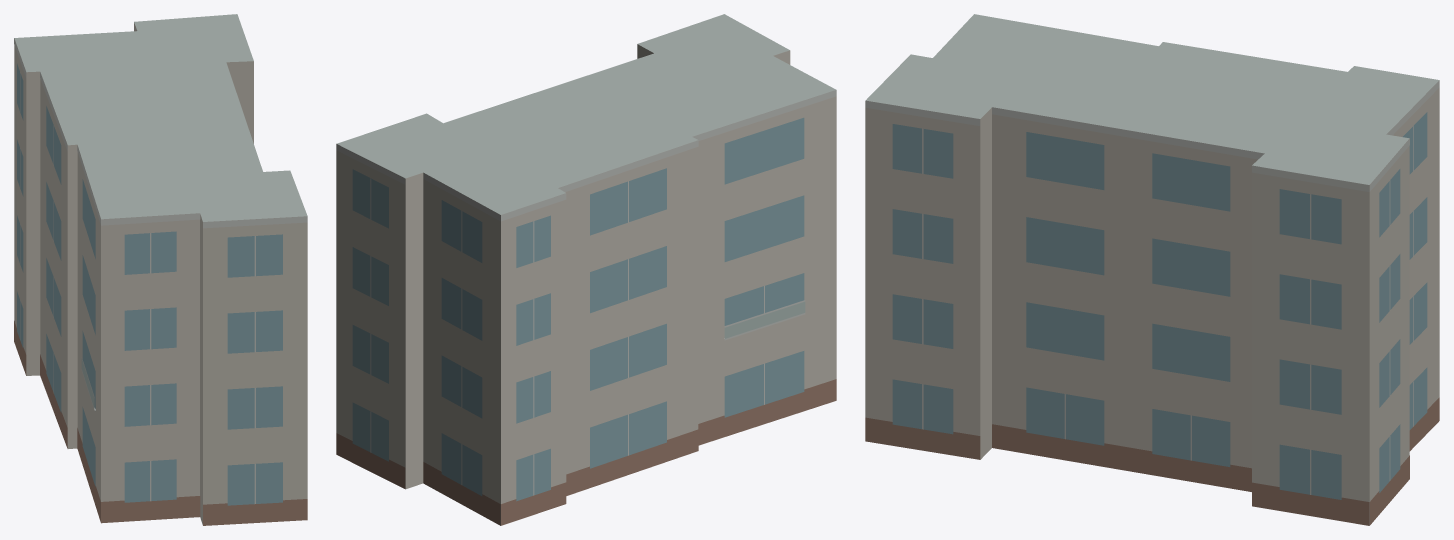
The model's file is survey-upis-32652156.glb.
The picture shows the model from 3 angles, left to right: view 1: azimuth 30°, elevation 25°; view 2: azimuth 150°, elevation 25°; view 3: azimuth 270°, elevation 25°; orthographic projection. The views are drawn at different scales.
Parts seen in each view (by area): view 1: survey-upis-32652156.tmp; view 2: survey-upis-32652156.tmp; view 3: survey-upis-32652156.tmp.
Part boxes in pixels (x1=…): survey-upis-32652156.tmp: x1=14, y1=14, x2=307, y2=525; survey-upis-32652156.tmp: x1=336, y1=14, x2=836, y2=525; survey-upis-32652156.tmp: x1=865, y1=14, x2=1439, y2=525.
Size of the model in its own units: 12.61 by 11.7 by 17.88.
